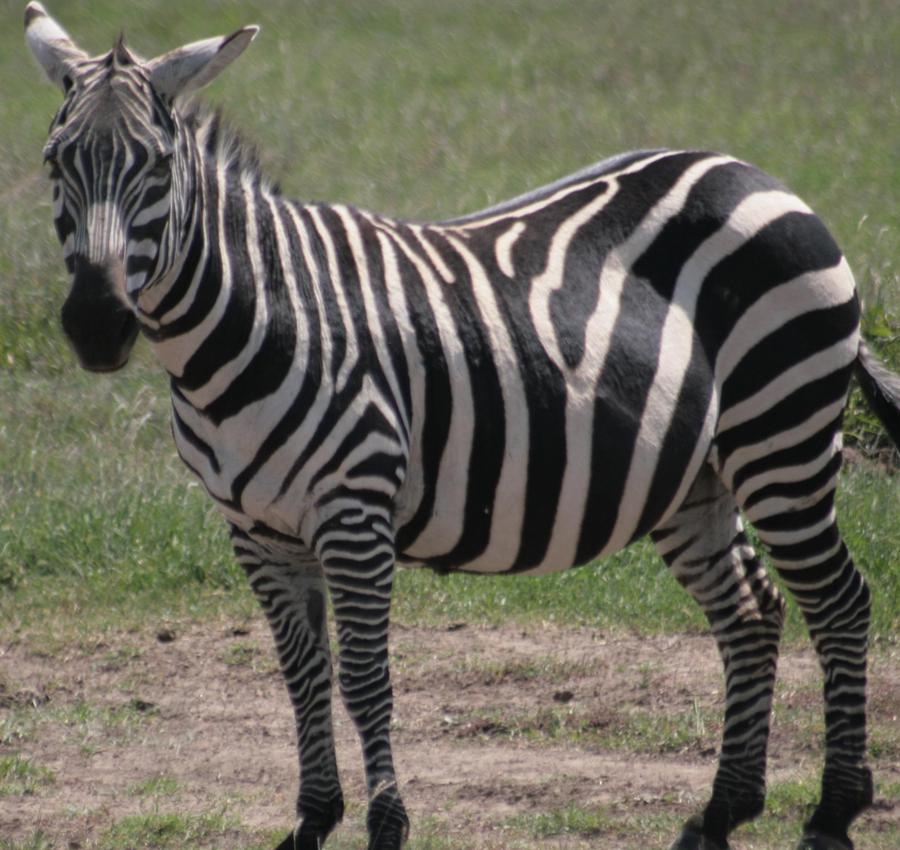zebra_plains: (179, 185, 881, 510)
